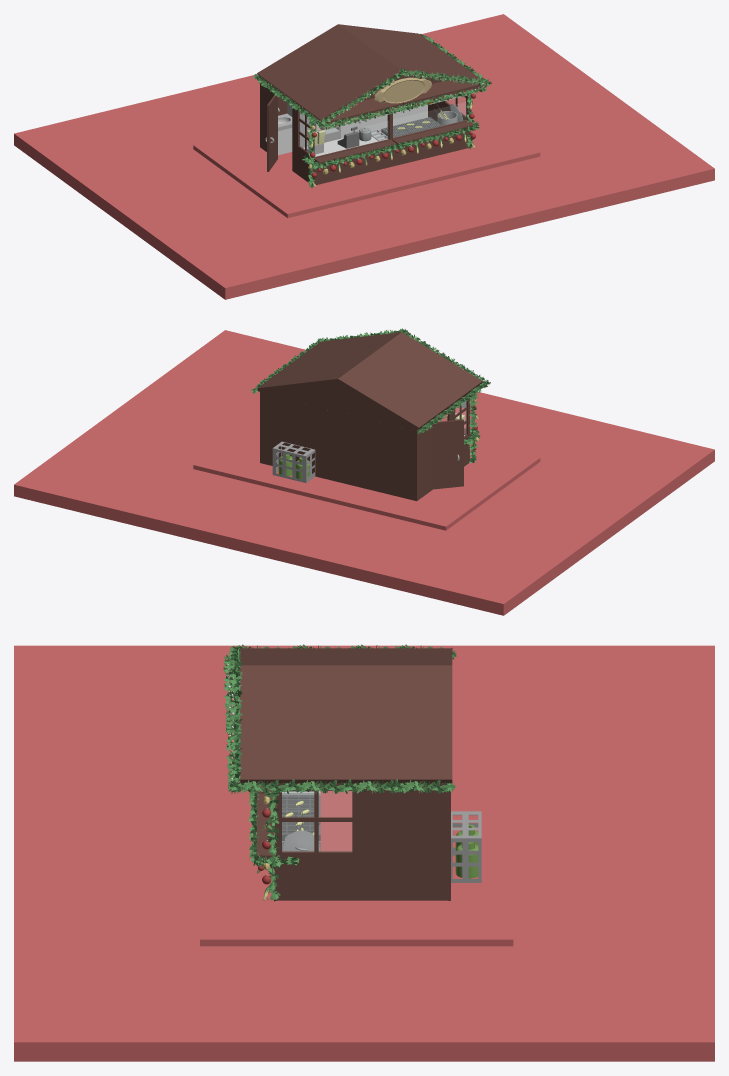
The model's file is fbx export ravids hut3 2.fbx.
3 renders of one model, top to bottom at view 1: azimuth 30°, elevation 25°; view 2: azimuth 150°, elevation 25°; view 3: azimuth 270°, elevation 25°, orthographic. The views are drawn at different scales.
Parts seen in each view (by area): view 1: pPlane12, pPlane14, pCube14, pCube1, pCube105, pCylinder130, pCube33, pCube15, polySurface13, polySurface11, pCube56, pCube55 (+1 smaller); view 2: pPlane12, pCube14, pCube2, pPlane14, pCube15, pCube105, pCube118; view 3: pPlane12, pPlane14, pCube14, pCube13, pCube118, polySurface4, pCube55.
Boxes of the visible parts, x1,y1,x2,y2 form: pPlane12: (14,14,714,299); pPlane14: (193,96,540,218); pCube14: (257,24,481,121); pCube1: (313,120,469,185); pCube105: (260,82,314,183); pCylinder130: (374,77,431,103); pCube33: (341,105,427,138); pCube15: (267,95,277,171); polySurface13: (402,79,480,104); polySurface11: (326,98,402,123); pCube56: (314,140,396,165); pCube55: (392,121,474,144); pPlane12: (14,330,714,615); pCube14: (257,332,482,430); pCube2: (260,392,417,501); pPlane14: (193,416,540,530); pCube15: (433,419,463,489); pCube105: (417,393,469,500); pCube118: (272,441,315,482); pPlane12: (14,645,714,1061); pPlane14: (200,735,513,946); pCube14: (240,648,452,783); pCube13: (275,783,447,900); pCube118: (451,811,481,882); polySurface4: (282,795,314,834); pCube55: (257,793,274,860).
Bounding box in the file's own units: 140 × 33.48 × 105.
